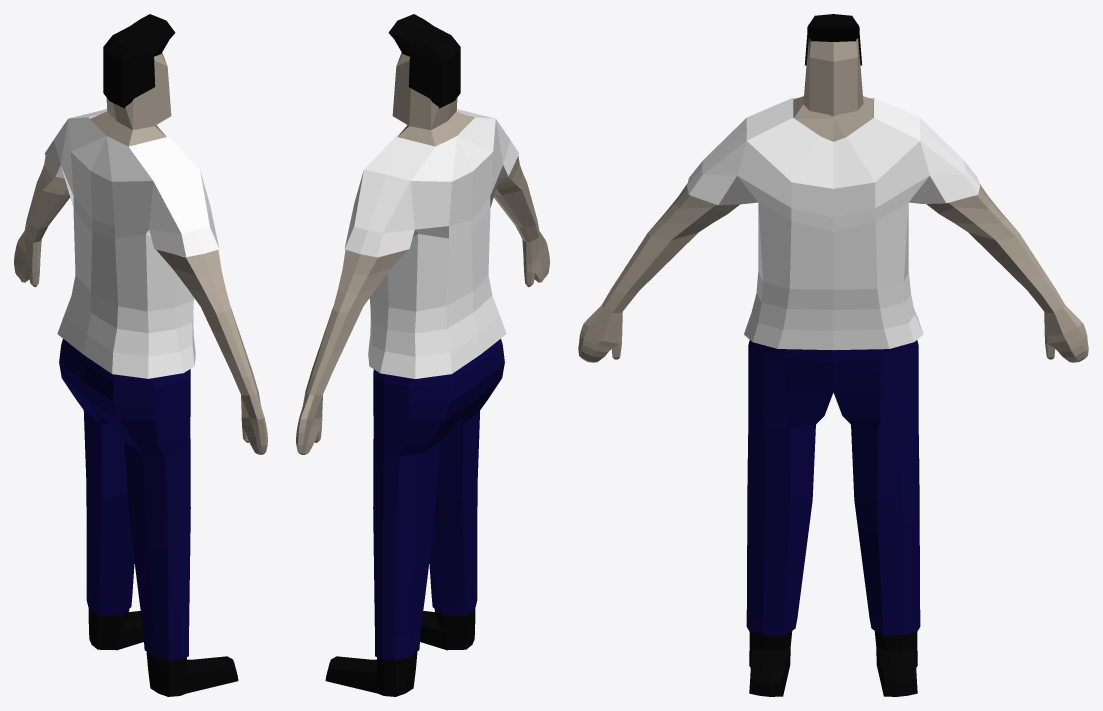
The model's file is character1.fbx.
3 views of the same model, side by side, from view 1: azimuth 30°, elevation 25°; view 2: azimuth 150°, elevation 25°; view 3: azimuth 270°, elevation 25° (orthographic). The views are drawn at different scales.
Parts seen in each view (by area): view 1: Character1Shirt, Character1Jean, Character1, Character1Shoe; view 2: Character1Shirt, Character1Jean, Character1, Character1Shoe; view 3: Character1Shirt, Character1Jean, Character1, Character1Shoe.
Boxes of the visible parts, left/top/right/bottom form: Character1Shirt: left=44, top=109, right=219, bottom=378; Character1Jean: left=59, top=339, right=190, bottom=660; Character1: left=14, top=14, right=267, bottom=454; Character1Shoe: left=88, top=608, right=238, bottom=696; Character1Shirt: left=344, top=109, right=519, bottom=378; Character1Jean: left=373, top=339, right=504, bottom=660; Character1: left=296, top=14, right=549, bottom=454; Character1Shoe: left=325, top=608, right=475, bottom=696; Character1Shirt: left=687, top=98, right=979, bottom=350; Character1Jean: left=746, top=340, right=920, bottom=636; Character1: left=578, top=14, right=1088, bottom=362; Character1Shoe: left=749, top=631, right=917, bottom=696.
Bounding box in the file's own units: 145 × 730 × 518.
